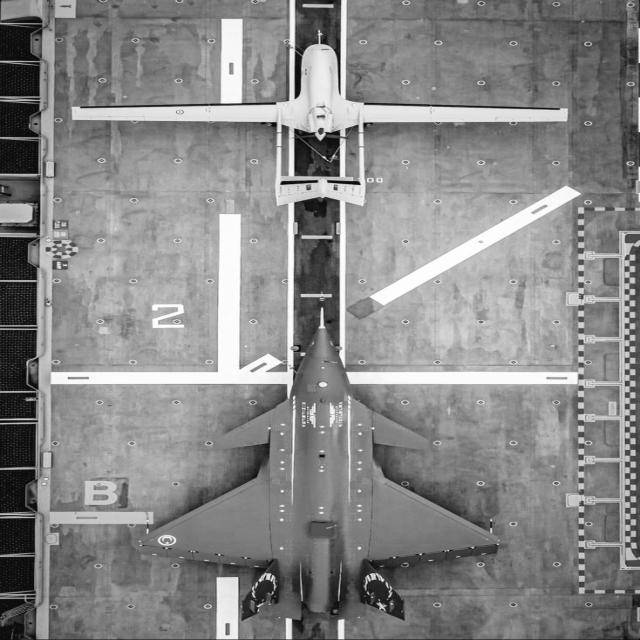iha: (0, 23, 567, 205)
